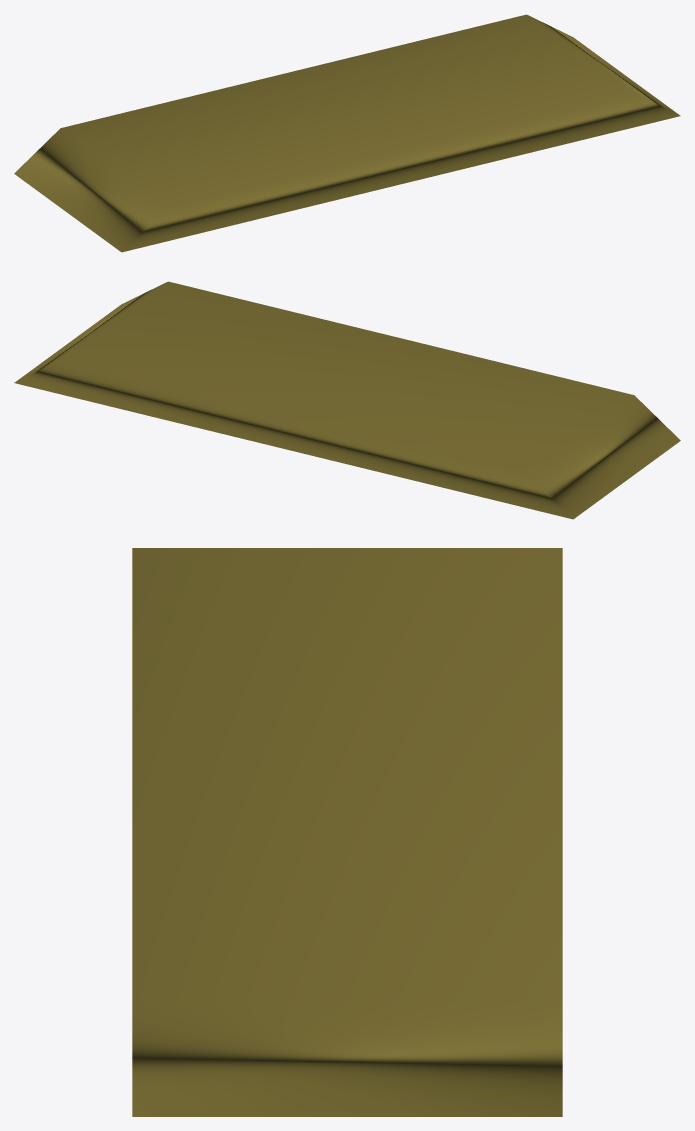
The model's file is platform.fbx.
3 renders of one model, top to bottom at view 1: azimuth 30°, elevation 25°; view 2: azimuth 150°, elevation 25°; view 3: azimuth 270°, elevation 25°, orthographic. The views are drawn at different scales.
Visible parts, largest first — view 1: platform; view 2: platform; view 3: platform.
Part boxes in pixels (x1=…): platform: x1=14, y1=14, x2=680, y2=252; platform: x1=14, y1=281, x2=680, y2=519; platform: x1=132, y1=548, x2=562, y2=1116.
Bounding box in the file's own units: 2.4 × 0.14 × 0.8.
